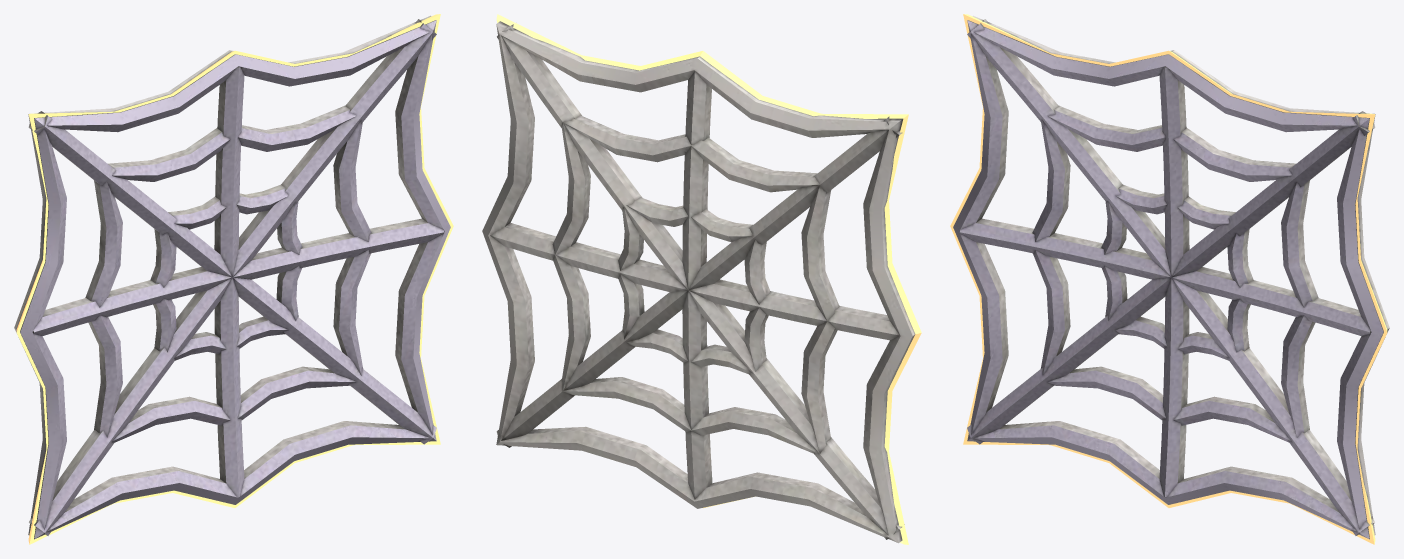
3 renders of one model, left to right at view 1: azimuth 30°, elevation 25°; view 2: azimuth 150°, elevation 25°; view 3: azimuth 330°, elevation 25°, orthographic.
Parts seen in each view (by area): view 1: Subtle_lavender_hollows, Ghost_cream_satin_vinyl, Soft_pumpkin_edge_glow; view 2: Ghost_cream_satin_vinyl, Soft_pumpkin_edge_glow; view 3: Subtle_lavender_hollows, Ghost_cream_satin_vinyl, Soft_pumpkin_edge_glow.
Boxes of the visible parts, bbox=[...] form: Subtle_lavender_hollows: bbox=[20, 20, 450, 539]; Ghost_cream_satin_vinyl: bbox=[14, 15, 436, 538]; Soft_pumpkin_edge_glow: bbox=[16, 14, 453, 544]; Ghost_cream_satin_vinyl: bbox=[482, 21, 915, 543]; Soft_pumpkin_edge_glow: bbox=[496, 14, 921, 544]; Subtle_lavender_hollows: bbox=[953, 20, 1383, 539]; Ghost_cream_satin_vinyl: bbox=[967, 15, 1389, 538]; Soft_pumpkin_edge_glow: bbox=[950, 14, 1387, 544].
Bounding box in the file's own units: 0.9544 × 0.9544 × 0.0709.
Materials: 3 (2 with a texture image).
